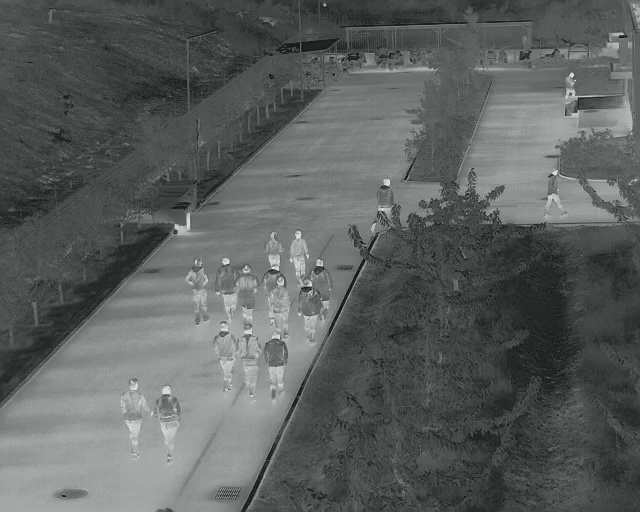person: (120, 377, 154, 459), (154, 385, 182, 465), (213, 320, 239, 396), (296, 276, 324, 346), (237, 323, 262, 401), (263, 331, 289, 404), (186, 257, 212, 328), (214, 256, 239, 323), (233, 264, 261, 322), (268, 275, 292, 334), (542, 168, 570, 218), (310, 256, 333, 313), (288, 227, 311, 280), (265, 231, 285, 271), (374, 175, 394, 211), (563, 71, 579, 100)
